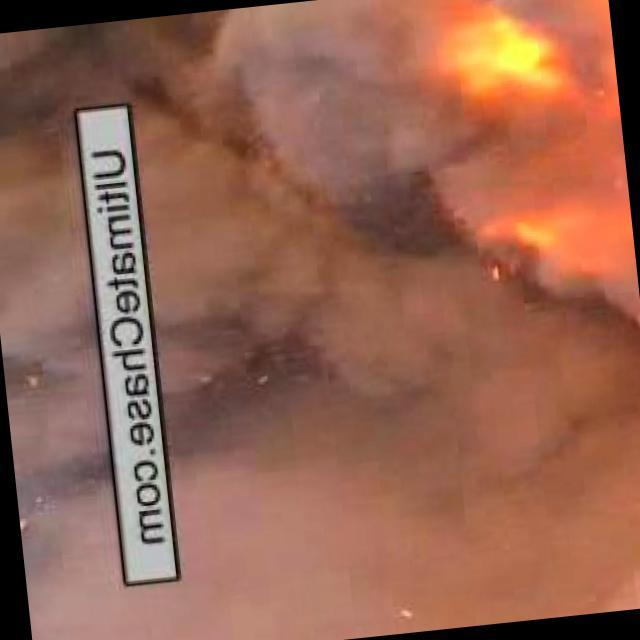Fire: (370, 1, 638, 300)
